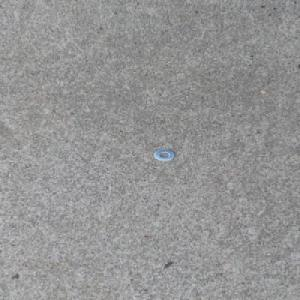Washer: (153, 148, 176, 161)
